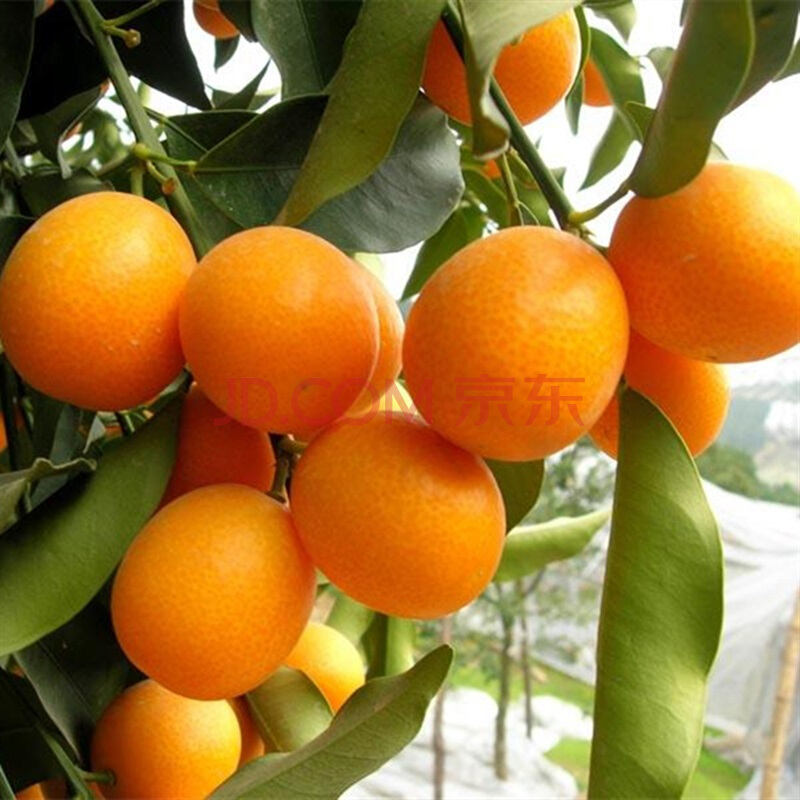orange: (398, 226, 626, 461), (107, 481, 319, 698), (289, 414, 506, 621), (1, 193, 198, 408), (179, 227, 377, 433), (610, 167, 800, 364), (577, 274, 737, 462), (409, 1, 584, 132), (89, 677, 241, 800), (222, 619, 374, 742), (141, 388, 277, 514)
